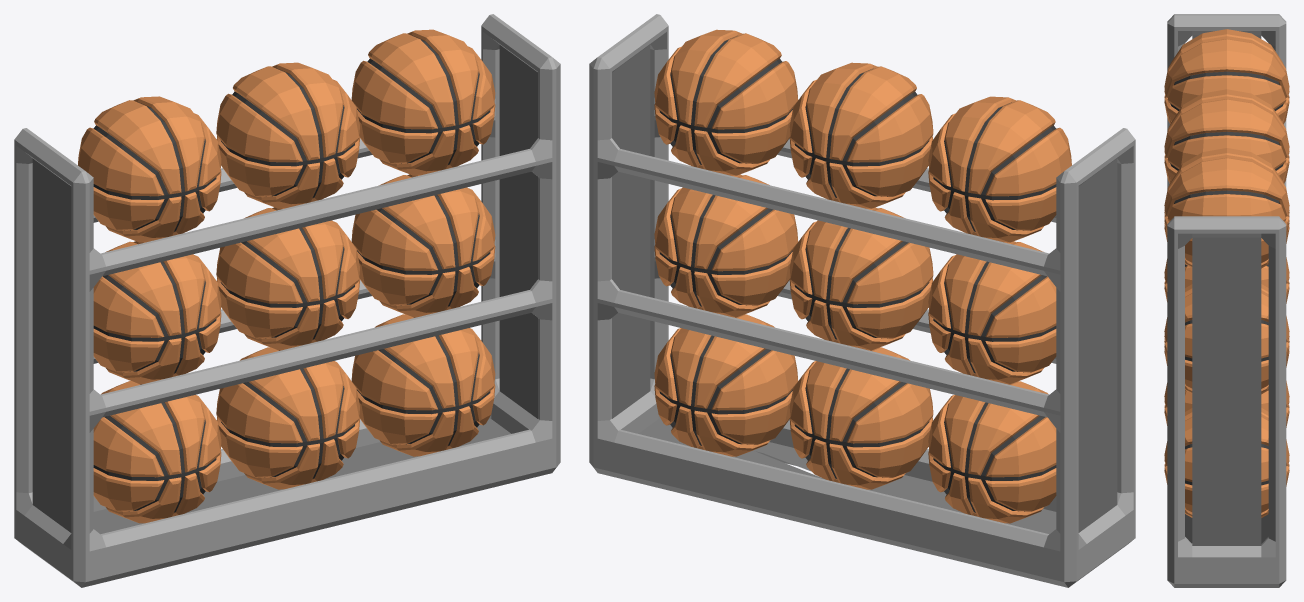
File: Net.fbx
3 renders of one model, left to right at view 1: azimuth 30°, elevation 25°; view 2: azimuth 150°, elevation 25°; view 3: azimuth 270°, elevation 25°, orthographic. The views are drawn at different scales.
Parts seen in each view (by area): view 1: Cube.022; view 2: Cube.022; view 3: Cube.022.
Boxes of the visible parts, box(x1,y1,x2,y2) form: Cube.022: box(14, 14, 560, 587); Cube.022: box(589, 14, 1135, 587); Cube.022: box(1164, 14, 1289, 587).
Bounding box in the file's own units: 68.3 × 273 × 235.
